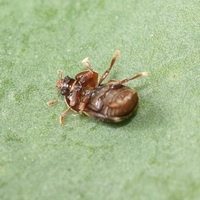insect: (49, 50, 149, 124)
